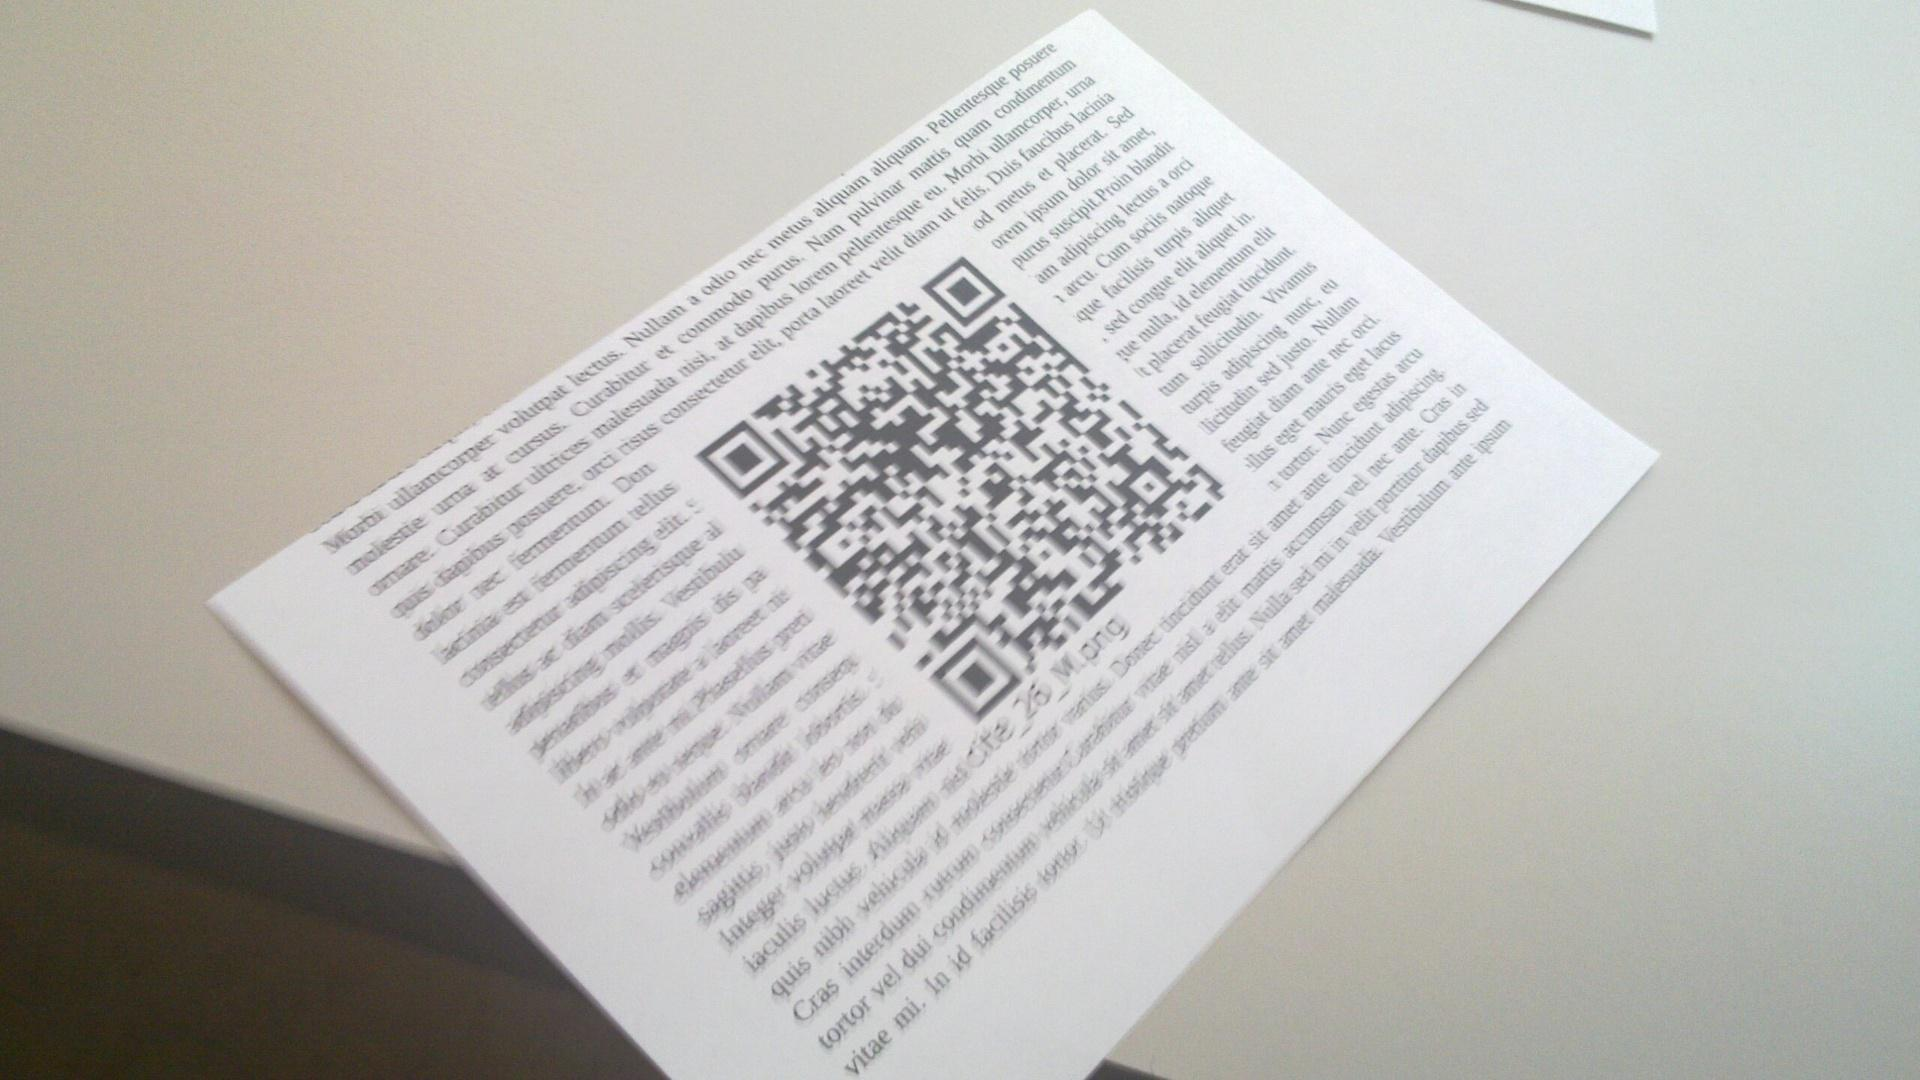Finder pattern: (931, 625, 1025, 727), (694, 418, 789, 498), (919, 251, 1007, 327)
